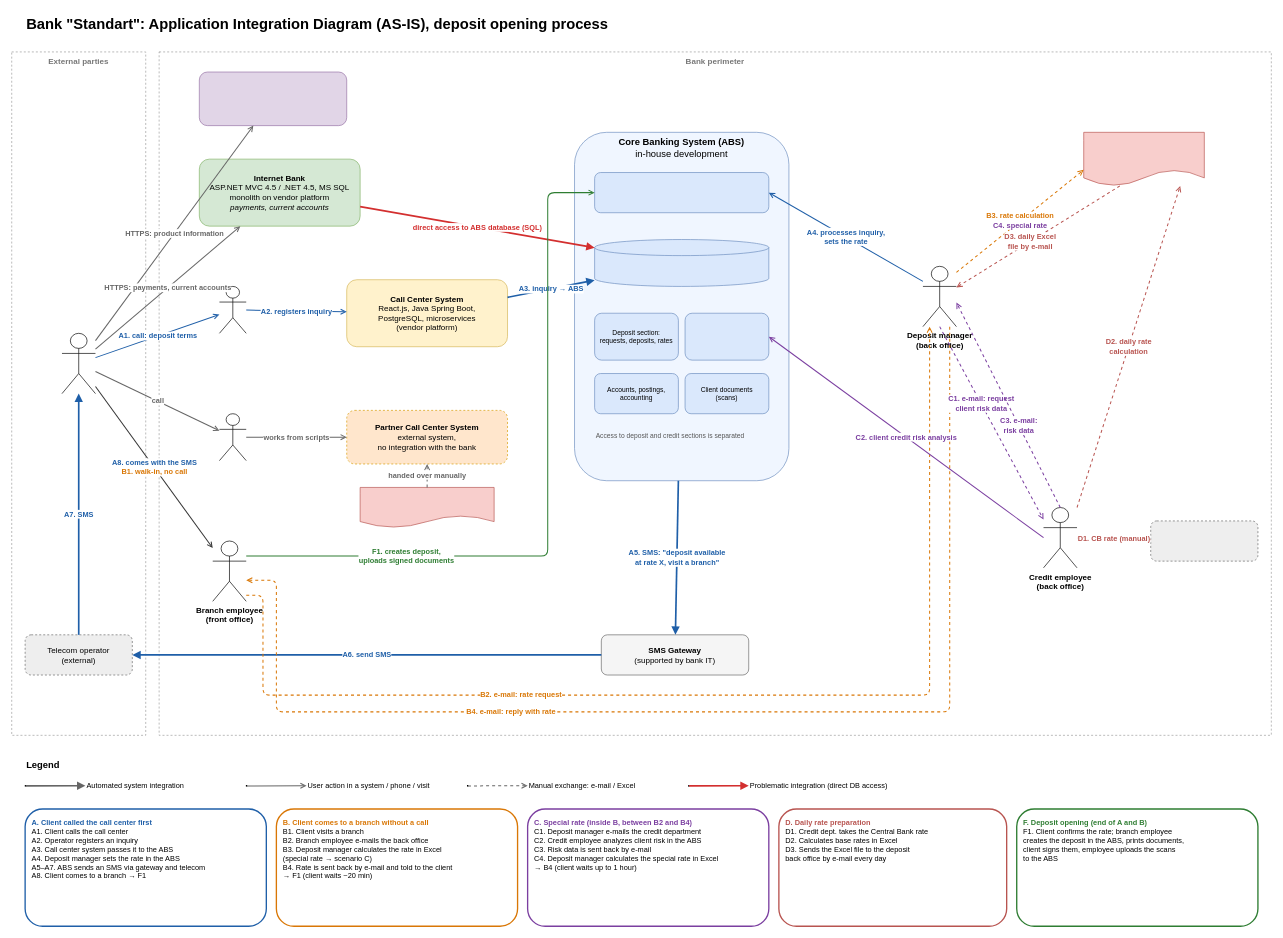
Some shapes in this 1283 by 938 pixel diagram are drawn without their labels. Here are the shapes that lost their labels. From the top down, the centre of each, then its label:
At (273,98): "Website PHP + React.js marketing information only".
At (1143,159): "Excel file rate calculation".
At (681,192): "ABS desktop client Delphi".
At (681,262): "Oracle DBMS business logic in PL/SQL".
At (232,309): "Call center operator".
At (726,336): "Credit section: loans, credit risk".
At (78,363): "Client".
At (232,437): "Partner call center operator".
At (426,507): "Call scripts (from business owners)".
At (1204,540): "Central Bank refinancing rate".
